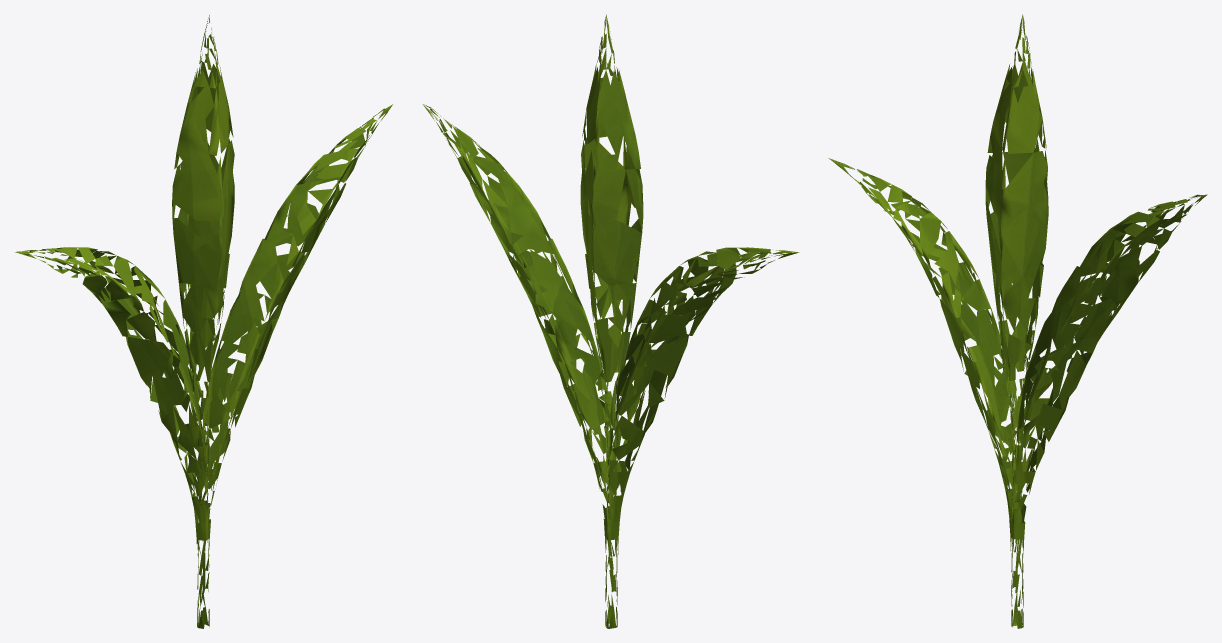
Rendered from qr-leaves.glb.
3 renders of one model, left to right at view 1: azimuth 30°, elevation 25°; view 2: azimuth 150°, elevation 25°; view 3: azimuth 330°, elevation 25°, orthographic.
Parts seen in each view (by area): view 1: mesh_node; view 2: mesh_node; view 3: mesh_node.
Part boxes in pixels (x1,y1,x2,y2): mesh_node: (15,15,392,628); mesh_node: (422,14,799,628); mesh_node: (828,14,1207,628).
Size of the model in its own units: 1.3 by 2 by 0.2095.
1 material, 1 textured.
